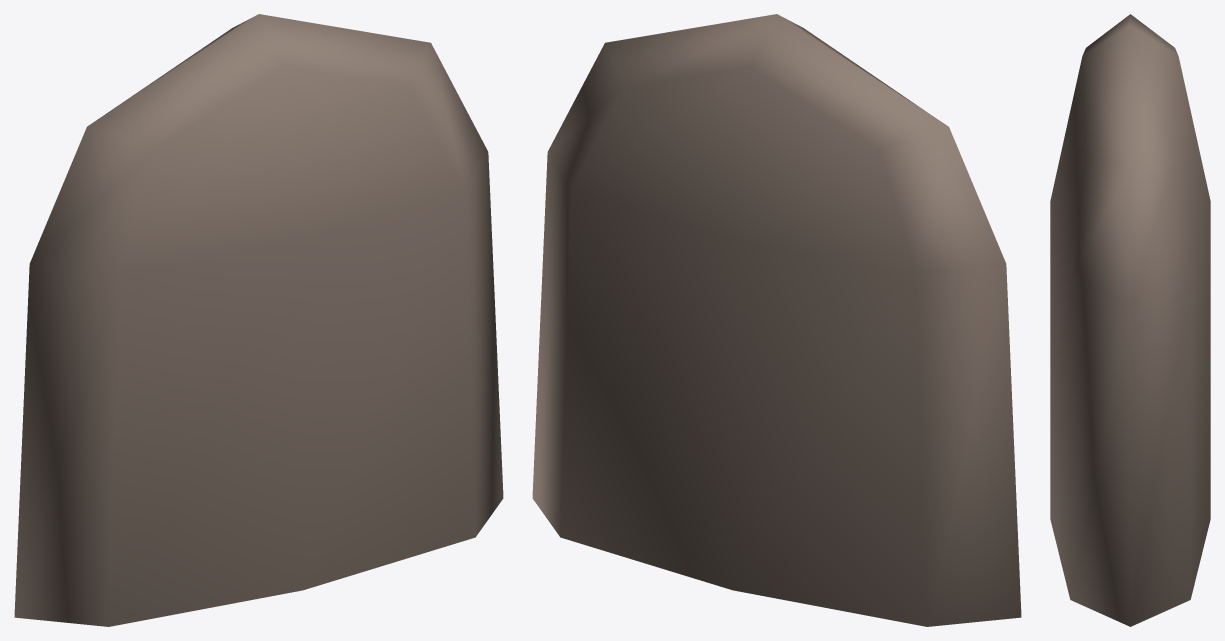
The model's file is Door_PH.fbx.
3 renders of one model, left to right at view 1: azimuth 30°, elevation 25°; view 2: azimuth 150°, elevation 25°; view 3: azimuth 270°, elevation 25°, orthographic. The views are drawn at different scales.
Parts seen in each view (by area): view 1: DOOR; view 2: DOOR; view 3: DOOR.
Boxes of the visible parts, x1,y1,x2,y2 form: DOOR: [14, 14, 503, 626]; DOOR: [532, 14, 1021, 626]; DOOR: [1050, 14, 1210, 626].
Size of the model in its own units: 3.19 by 3.39 by 1.
